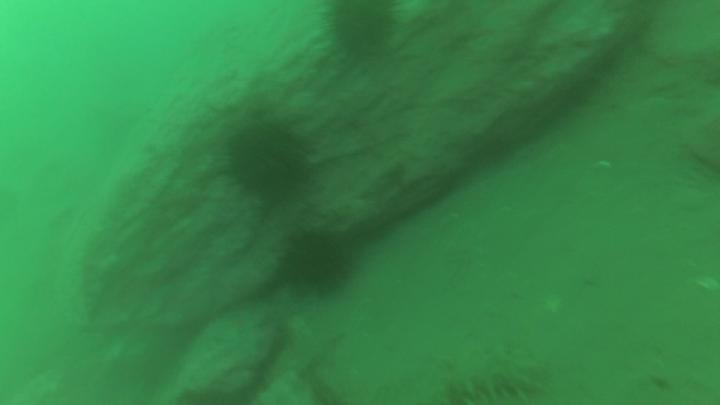echinus: (227, 128, 306, 197), (286, 235, 346, 296), (336, 1, 394, 56)
holothurian: (431, 355, 542, 404)
